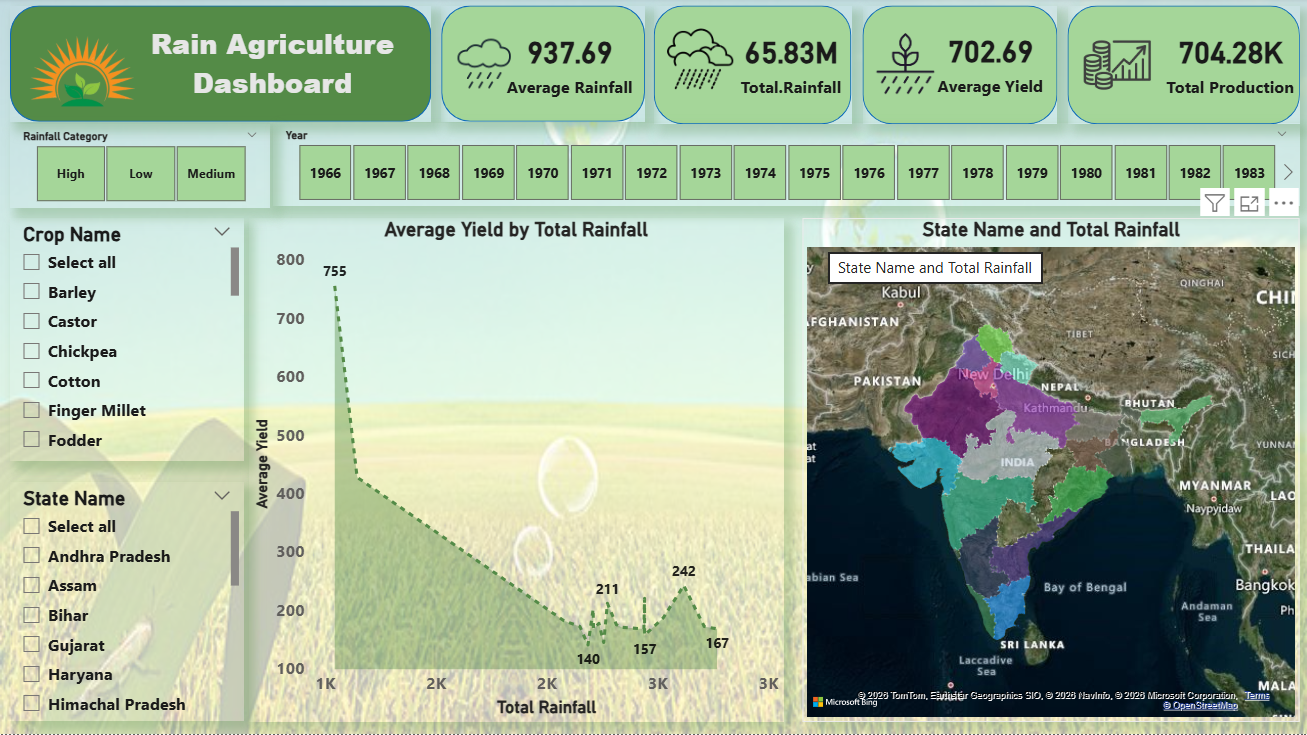

The page's visual inventory and layout, read from the dashboard file:
{"tool":"powerbi","page":{"name":"Total Rainfalll","canvas":[1280,720],"ordinal":0},"visuals":[{"type":"shape","box":[9.8,7.3,412.1,113.7],"z":0},{"type":"shape","box":[431.7,7.3,199.3,113.7],"z":1000},{"type":"shape","box":[639.5,7.3,193.2,116.2],"z":2000},{"type":"shape","box":[843.8,7.3,190.8,116.2],"z":3000},{"type":"shape","box":[1044.3,7.3,227.4,116.2],"z":4000},{"type":"textbox","box":[124.7,20.8,283.7,88],"z":5000},{"type":"image","box":[9.8,0,141.8,143.1],"z":6000},{"type":"card","fields":{"Values":["rain-agriculture.Avg Rainfall"]},"box":[484.2,22,146.7,80.7],"z":7000},{"type":"card","fields":{"Values":["rain-agriculture.Total.Rainfall"]},"box":[716.6,22,114.9,80.7],"z":8000},{"type":"card","fields":{"Values":["rain-agriculture.Avg Yield"]},"box":[909.8,20.8,118.6,80.7],"z":9000},{"type":"slicer","fields":{"Values":["rain-agriculture.Crop"]},"box":[9.8,215.2,228.7,237.2],"z":10000},{"type":"areaChart","fields":{"Category":["rain-agriculture.Total Rainfall"],"Y":["rain-agriculture.Average Yield"]},"box":[243.3,215.2,523.4,492.8],"z":11000},{"type":"slicer","fields":{"Values":["rain-agriculture.Year"]},"box":[266.6,122.3,1005.2,81.9],"z":12000},{"type":"image","box":[431.7,7.3,84.4,113.7],"z":13000},{"type":"image","box":[631,2.4,107.6,121.1],"z":14000},{"type":"image","box":[821.7,7.3,128.4,113.7],"z":15000},{"type":"slicer","fields":{"Values":["rain-agriculture.Rainfall Category"]},"box":[9.8,123.5,254.3,81.9],"z":16000},{"type":"filledMap","fields":{"Category":["rain-agriculture.State Name"],"Series":["rain-agriculture.Total Rainfall"]},"box":[785.1,215.2,486.7,492.8],"z":17000},{"type":"card","fields":{"Values":["Sum(rain-agriculture.Total Production (1000 tons))"]},"box":[1127.5,22,152.9,80.7],"z":18000},{"type":"image","box":[1023.5,0,134.5,130.8],"z":19000},{"type":"slicer","fields":{"Values":["rain-agriculture.State Name"]},"box":[9.8,473.2,228.7,234.8],"z":19001}]}

Visuals, with their boxes in screenshot pixels (x1, y1, x2, y2), scaled from the page's 1280x720 canvas onto the 1307x735 screenshot:
shape: x1=10, y1=7, x2=431, y2=124
shape: x1=441, y1=7, x2=644, y2=124
shape: x1=653, y1=7, x2=850, y2=126
shape: x1=862, y1=7, x2=1056, y2=126
shape: x1=1066, y1=7, x2=1299, y2=126
textbox: x1=127, y1=21, x2=417, y2=111
image: x1=10, y1=0, x2=155, y2=146
card - rain-agriculture.Avg Rainfall: x1=494, y1=22, x2=644, y2=105
card - rain-agriculture.Total.Rainfall: x1=732, y1=22, x2=849, y2=105
card - rain-agriculture.Avg Yield: x1=929, y1=21, x2=1050, y2=104
slicer - rain-agriculture.Crop: x1=10, y1=220, x2=244, y2=462
areaChart - rain-agriculture.Total Rainfall x rain-agriculture.Average Yield: x1=248, y1=220, x2=783, y2=723
slicer - rain-agriculture.Year: x1=272, y1=125, x2=1299, y2=208
image: x1=441, y1=7, x2=527, y2=124
image: x1=644, y1=2, x2=754, y2=126
image: x1=839, y1=7, x2=970, y2=124
slicer - rain-agriculture.Rainfall Category: x1=10, y1=126, x2=270, y2=210
filledMap - rain-agriculture.State Name x rain-agriculture.Total Rainfall: x1=802, y1=220, x2=1299, y2=723
card - Sum(rain-agriculture.Total Production (1000 tons)): x1=1151, y1=22, x2=1306, y2=105
image: x1=1045, y1=0, x2=1182, y2=134
slicer - rain-agriculture.State Name: x1=10, y1=483, x2=244, y2=723
